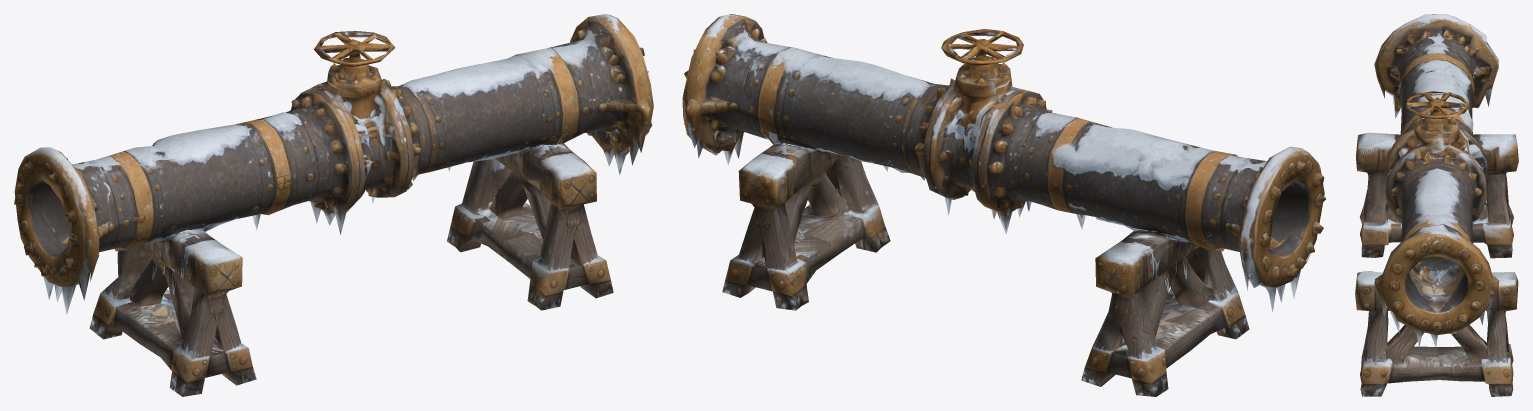
The model's file is PR_IntakePipe.fbx.
The picture shows the model from 3 angles, left to right: view 1: azimuth 30°, elevation 25°; view 2: azimuth 150°, elevation 25°; view 3: azimuth 270°, elevation 25°; orthographic projection. The views are drawn at different scales.
Visible parts, largest first — view 1: texture_mapping; view 2: texture_mapping; view 3: texture_mapping.
Boxes of the visible parts, bbox=[...] form: texture_mapping: bbox=[14, 14, 653, 396]; texture_mapping: bbox=[682, 14, 1325, 396]; texture_mapping: bbox=[1355, 14, 1518, 396].
Bounding box in the file's own units: 0.997 × 0.3036 × 0.4441.
Materials: 1 (1 with a texture image).
